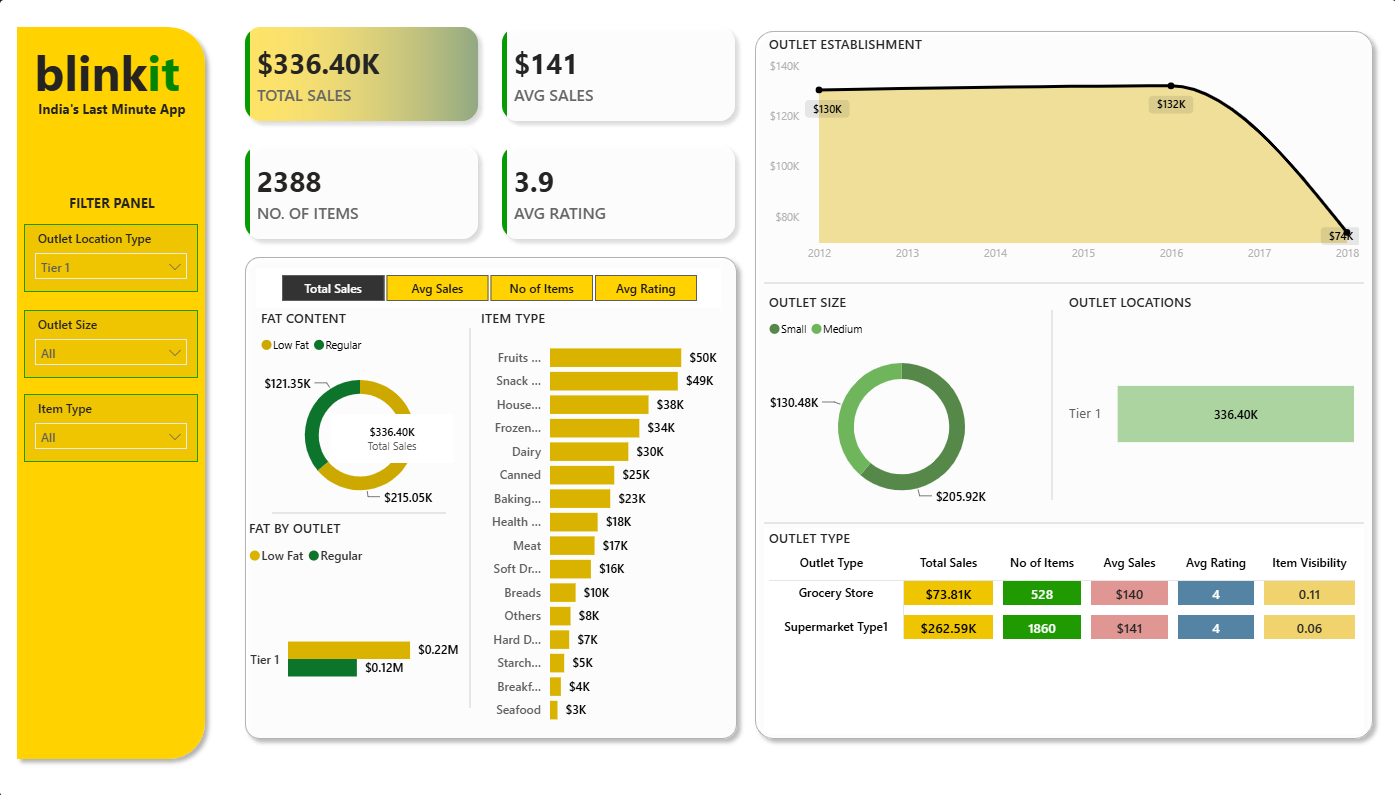

The dashboard page shown, as its layout file describes it:
{"tool":"powerbi","page":{"name":"Page 1","canvas":[1400,800],"ordinal":0},"visuals":[{"type":"shape","box":[10,20,206,750],"z":0},{"type":"textbox","box":[18,36,182,76],"z":1000},{"type":"textbox","box":[28,96,172,30],"z":2000},{"type":"cardVisual","fields":{"Data":["BlinkIT Grocery Data.Total Sales","BlinkIT Grocery Data.Avg Sales","BlinkIT Grocery Data.No of Items","BlinkIT Grocery Data.Avg Rating"]},"box":[218,0,548,270],"z":3000},{"type":"shape","box":[237.5,250,510,500],"z":4000},{"type":"donutChart","title":"FAT CONTENT","fields":{"Y":["BlinkIT Grocery Data.Total Sales"],"Category":["BlinkIT Grocery Data.Item Fat Content"]},"box":[258,310,208,210],"z":5000},{"type":"slicer","fields":{"Values":["Metrics.Metrics"]},"box":[258.3,270,465,40],"z":6000},{"type":"cardVisual","fields":{"Data":["BlinkIT Grocery Data.Total Sales"]},"box":[332,416,124,54],"z":7000},{"type":"clusteredBarChart","title":"FAT BY OUTLET","fields":{"Y":["BlinkIT Grocery Data.Total Sales"],"Category":["BlinkIT Grocery Data.Outlet Location Type"],"Series":["BlinkIT Grocery Data.Item Fat Content"]},"box":[246,520,220,230],"z":8000},{"type":"shape","box":[274,510,174,10],"z":9000},{"type":"shape","box":[466,330,12,380],"z":10000},{"type":"barChart","title":"ITEM TYPE","fields":{"Y":["BlinkIT Grocery Data.Total Sales"],"Category":["BlinkIT Grocery Data.Item Type"]},"box":[478,310,246,426],"z":11000},{"type":"shape","box":[748,24,636,726],"z":12000},{"type":"lineChart","title":"OUTLET ESTABLISHMENT","fields":{"Y":["BlinkIT Grocery Data.Total Sales"],"Category":["BlinkIT Grocery Data.Outlet Establishment Year"]},"box":[766,36,600,236],"z":13000},{"type":"shape","box":[766,280,600,10],"z":14000},{"type":"donutChart","title":"OUTLET SIZE","fields":{"Y":["BlinkIT Grocery Data.Total Sales"],"Category":["BlinkIT Grocery Data.Outlet Size"]},"box":[766,294,275,225],"z":15000},{"type":"shape","box":[1042,312,24,190],"z":16000},{"type":"funnel","title":"OUTLET LOCATIONS","fields":{"Y":["Sum(BlinkIT Grocery Data.Sales)"],"Category":["BlinkIT Grocery Data.Outlet Location Type"]},"box":[1066,294,300,226],"z":17000},{"type":"shape","box":[766,520,600,10],"z":18000},{"type":"pivotTable","title":"OUTLET TYPE","fields":{"Rows":["BlinkIT Grocery Data.Outlet Type"],"Values":["BlinkIT Grocery Data.Total Sales","BlinkIT Grocery Data.No of Items","BlinkIT Grocery Data.Avg Sales","BlinkIT Grocery Data.Avg Rating","Avg(BlinkIT Grocery Data.Item Visibility)"]},"box":[766,530,600,206],"z":19000},{"type":"slicer","fields":{"Values":["BlinkIT Grocery Data.Outlet Location Type"]},"box":[26,226,174,68],"z":20000},{"type":"slicer","fields":{"Values":["BlinkIT Grocery Data.Outlet Size"]},"box":[26,312,174,68],"z":21000},{"type":"slicer","fields":{"Values":["BlinkIT Grocery Data.Item Type"]},"box":[26,396,174,68],"z":22000},{"type":"textbox","box":[56,190,116,36],"z":22001}]}

Visuals, with their boxes in screenshot pixels (x1, y1, x2, y2), scaled from the page's 1400x800 canvas onto the 1395x795 screenshot:
shape: [left=10, top=20, right=215, bottom=765]
textbox: [left=18, top=36, right=199, bottom=111]
textbox: [left=28, top=95, right=199, bottom=125]
cardVisual - BlinkIT Grocery Data.Total Sales x BlinkIT Grocery Data.Avg Sales: [left=217, top=0, right=763, bottom=268]
shape: [left=237, top=248, right=745, bottom=745]
"FAT CONTENT" donutChart: [left=257, top=308, right=464, bottom=517]
slicer - Metrics.Metrics: [left=257, top=268, right=721, bottom=308]
cardVisual - BlinkIT Grocery Data.Total Sales: [left=331, top=413, right=454, bottom=467]
"FAT BY OUTLET" clusteredBarChart: [left=245, top=517, right=464, bottom=745]
shape: [left=273, top=507, right=446, bottom=517]
shape: [left=464, top=328, right=476, bottom=706]
"ITEM TYPE" barChart: [left=476, top=308, right=721, bottom=731]
shape: [left=745, top=24, right=1379, bottom=745]
"OUTLET ESTABLISHMENT" lineChart: [left=763, top=36, right=1361, bottom=270]
shape: [left=763, top=278, right=1361, bottom=288]
"OUTLET SIZE" donutChart: [left=763, top=292, right=1037, bottom=516]
shape: [left=1038, top=310, right=1062, bottom=499]
"OUTLET LOCATIONS" funnel: [left=1062, top=292, right=1361, bottom=517]
shape: [left=763, top=517, right=1361, bottom=527]
"OUTLET TYPE" pivotTable: [left=763, top=527, right=1361, bottom=731]
slicer - BlinkIT Grocery Data.Outlet Location Type: [left=26, top=225, right=199, bottom=292]
slicer - BlinkIT Grocery Data.Outlet Size: [left=26, top=310, right=199, bottom=378]
slicer - BlinkIT Grocery Data.Item Type: [left=26, top=394, right=199, bottom=461]
textbox: [left=56, top=189, right=171, bottom=225]
